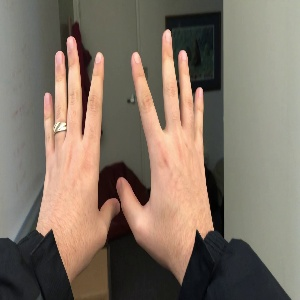hand: (116, 30, 214, 254), (38, 36, 120, 261)
